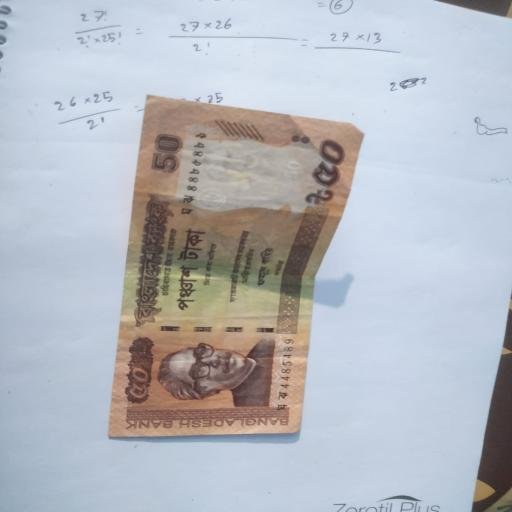50taka: (109, 96, 363, 436)
